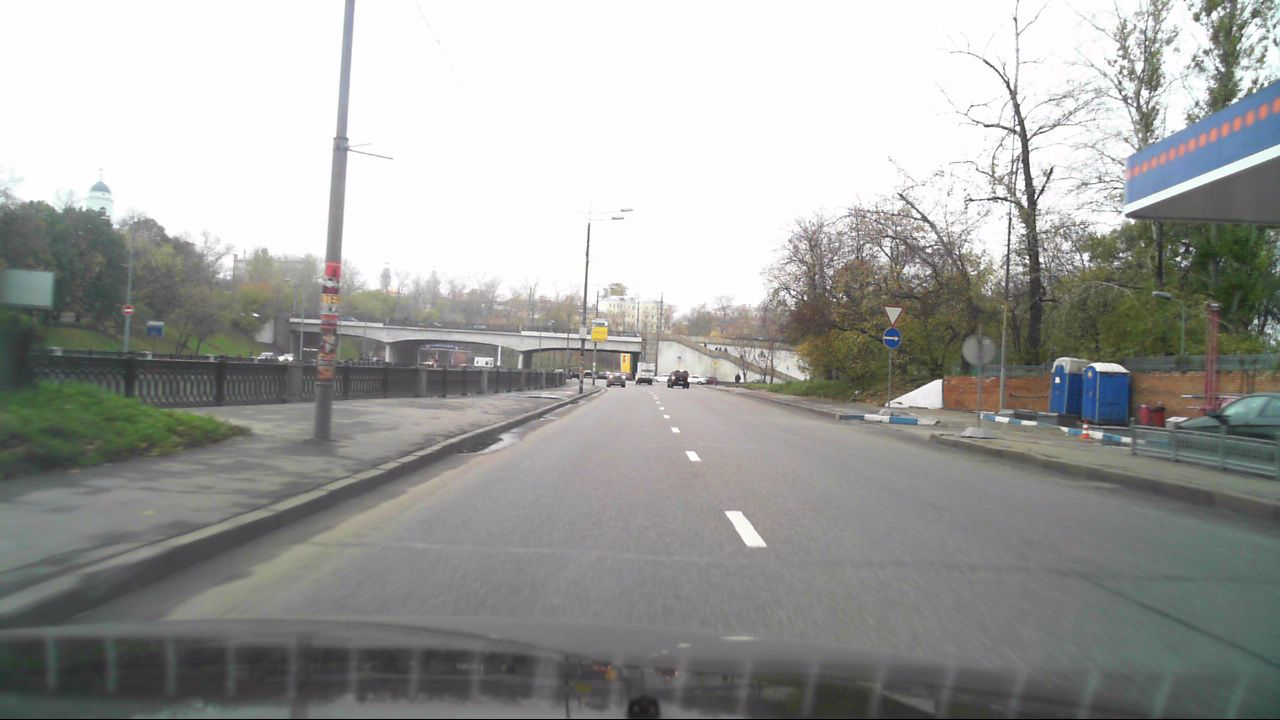Turn Right: (883, 328, 901, 349)
